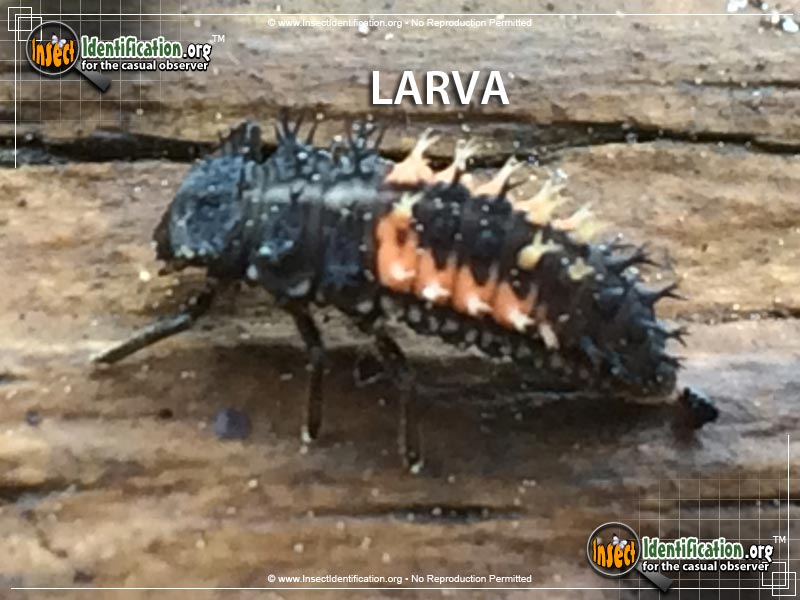Asian Multicolored Lady Beetle: (115, 120, 714, 456)
